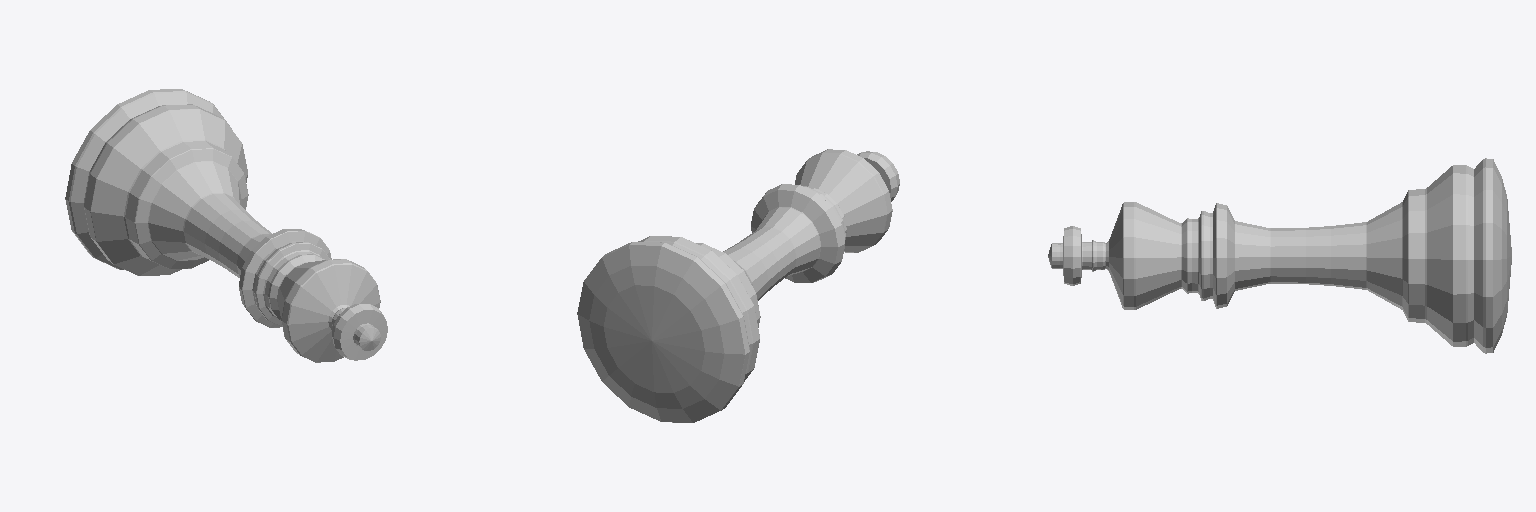
Rendered from king2.obj.
3 views of the same model, side by side, from view 1: azimuth 30°, elevation 25°; view 2: azimuth 150°, elevation 25°; view 3: azimuth 270°, elevation 25° (orthographic).
Visible parts, largest first — view 1: Cube; view 2: Cube; view 3: Cube.
Boxes of the visible parts, box(x1,y1,x2,y2) form: Cube: box(65, 89, 387, 362); Cube: box(577, 149, 899, 422); Cube: box(1052, 158, 1511, 353).
Bounding box in the file's own units: 1.81 × 1.81 × 4.31.